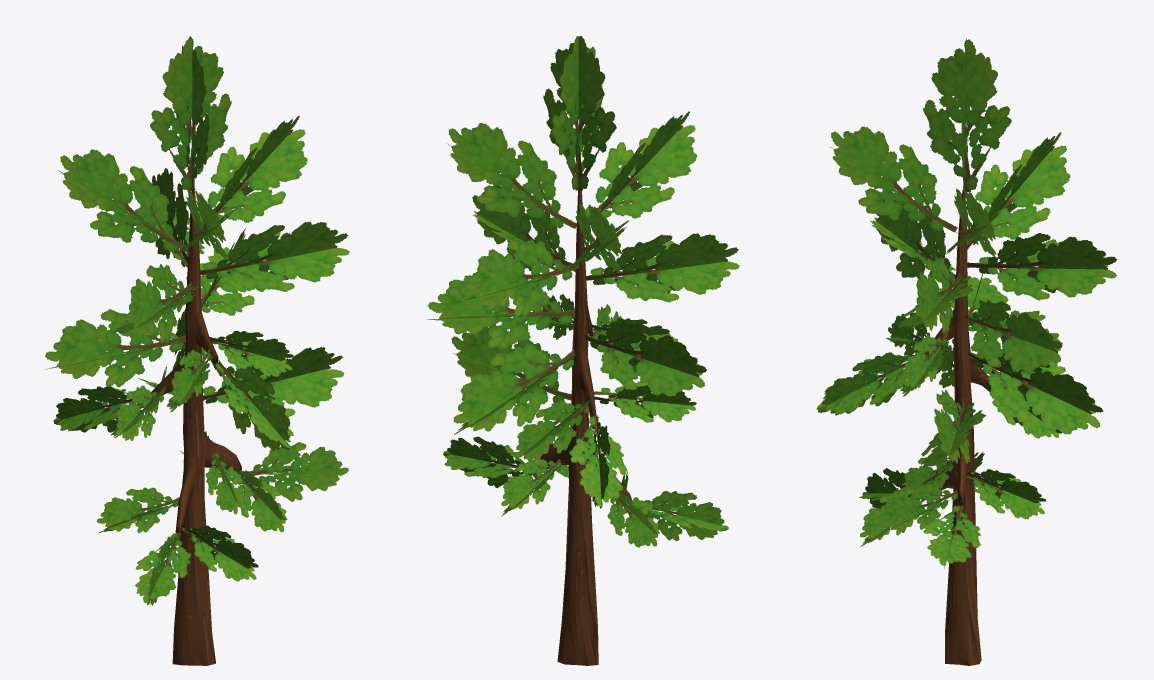
File: tree2_01.fbx
3 renders of one model, left to right at view 1: azimuth 30°, elevation 25°; view 2: azimuth 150°, elevation 25°; view 3: azimuth 270°, elevation 25°, orthographic.
Visible parts, largest first — view 1: polySurface3, pPlane12, pPlane3, pPlane106, pPlane97, pPlane102, pPlane103, pPlane9, pPlane104, pPlane11, pPlane131, pPlane118 (+21 smaller); view 2: polySurface3, pPlane96, pPlane128, pPlane99, pPlane100, pPlane108, pPlane3, pPlane104, pPlane105, pPlane107, pPlane106, pPlane1 (+17 smaller); view 3: polySurface3, pPlane1, pPlane98, pPlane13, pPlane129, pPlane100, pPlane101, pPlane109, pPlane104, pPlane128, pPlane114, pPlane8 (+20 smaller).
Boxes of the visible parts, x1=… form: polySurface3: x1=147, y1=190, x2=242, y2=665; pPlane12: x1=60, y1=149, x2=188, y2=252; pPlane3: x1=150, y1=37, x2=231, y2=191; pPlane106: x1=45, y1=309, x2=185, y2=387; pPlane97: x1=197, y1=129, x2=307, y2=229; pPlane102: x1=200, y1=221, x2=348, y2=279; pPlane103: x1=200, y1=231, x2=349, y2=291; pPlane9: x1=244, y1=442, x2=348, y2=501; pPlane104: x1=126, y1=264, x2=192, y2=342; pPlane11: x1=216, y1=360, x2=290, y2=451; pPlane131: x1=203, y1=358, x2=344, y2=417; pPlane118: x1=96, y1=487, x2=179, y2=532; polySurface3: x1=532, y1=189, x2=632, y2=665; pPlane96: x1=448, y1=123, x2=576, y2=228; pPlane128: x1=453, y1=344, x2=574, y2=431; pPlane99: x1=585, y1=125, x2=697, y2=220; pPlane100: x1=465, y1=238, x2=579, y2=316; pPlane108: x1=428, y1=275, x2=575, y2=350; pPlane3: x1=543, y1=35, x2=616, y2=190; pPlane104: x1=586, y1=233, x2=738, y2=292; pPlane105: x1=587, y1=240, x2=739, y2=302; pPlane107: x1=587, y1=332, x2=704, y2=396; pPlane106: x1=584, y1=321, x2=706, y2=382; pPlane1: x1=551, y1=36, x2=604, y2=190; polySurface3: x1=926, y1=191, x2=991, y2=665; pPlane1: x1=923, y1=39, x2=1011, y2=191; pPlane98: x1=831, y1=126, x2=957, y2=232; pPlane13: x1=967, y1=145, x2=1070, y2=249; pPlane129: x1=969, y1=352, x2=1100, y2=434; pPlane100: x1=967, y1=233, x2=1117, y2=292; pPlane101: x1=967, y1=239, x2=1116, y2=300; pPlane109: x1=965, y1=310, x2=1062, y2=372; pPlane104: x1=876, y1=192, x2=955, y2=284; pPlane128: x1=967, y1=352, x2=1103, y2=414; pPlane114: x1=878, y1=483, x2=957, y2=530; pPlane8: x1=923, y1=505, x2=980, y2=565.
Size of the model in its own units: 342 by 661 by 341.
